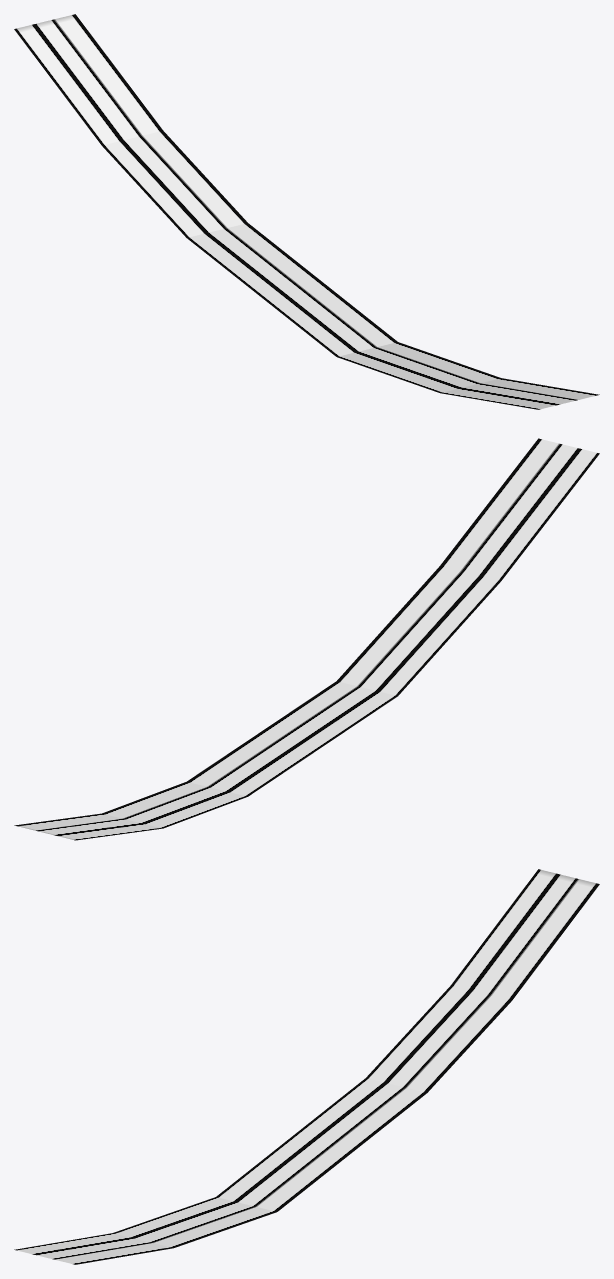
The model's file is Kabel_Lichtleitungx8_2602.glb.
The picture shows the model from 3 angles, top to bottom: view 1: azimuth 30°, elevation 25°; view 2: azimuth 150°, elevation 25°; view 3: azimuth 330°, elevation 25°; orthographic projection.
Visible parts, largest first — view 1: pPlaneShape14; view 2: pPlaneShape14; view 3: pPlaneShape14.
Part boxes in pixels (x1,y1,x2,y2): pPlaneShape14: [14, 14, 599, 409]; pPlaneShape14: [14, 438, 599, 840]; pPlaneShape14: [14, 869, 599, 1264].
Size of the model in its own units: 0.1354 by 0.1995 by 2.
Materials: 1 (1 with a texture image).
